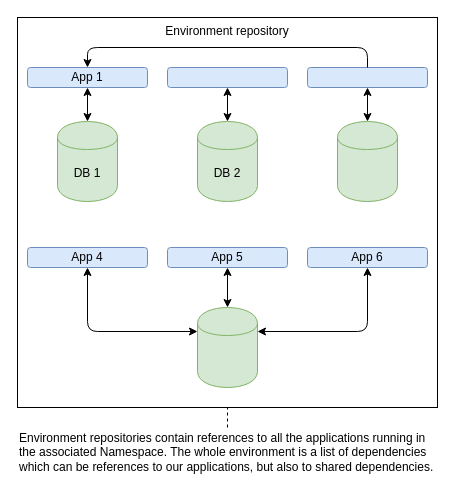
Image size: 455x495. Some labels were removed from this diagram. The box of each missing label's shape, as (x1, y1, x2, y2) in pixels:
App 2: (166, 66, 288, 88)
App 3: (306, 66, 428, 88)
DB 3: (336, 120, 398, 202)
Shared DB: (196, 306, 258, 388)
